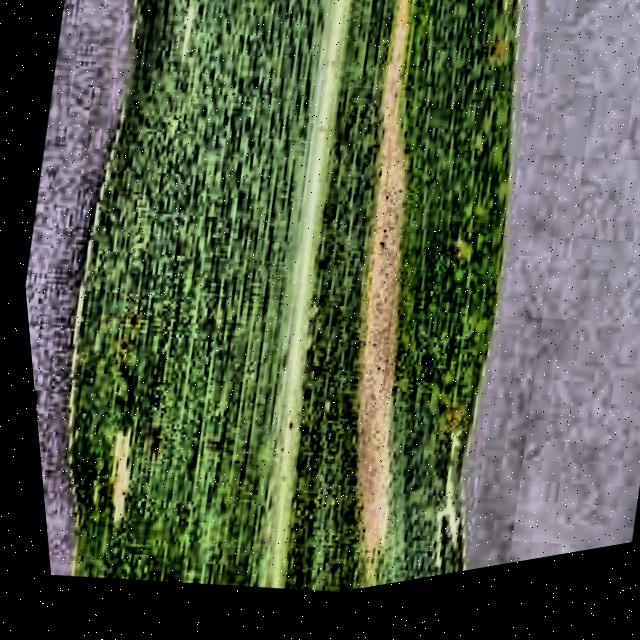blight: (5, 0, 597, 639)
